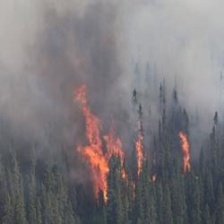fire: (65, 88, 199, 206)
smoke: (4, 1, 218, 85)
